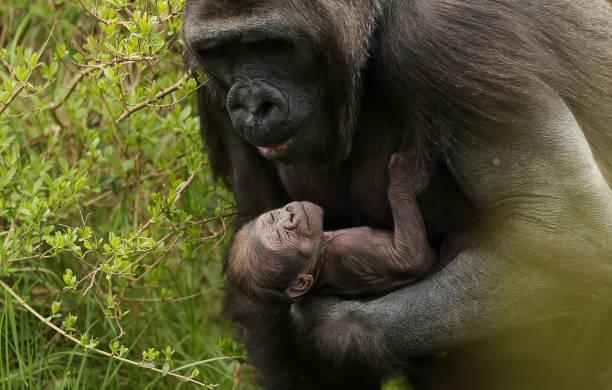gorille_Autres: (168, 0, 612, 206)
